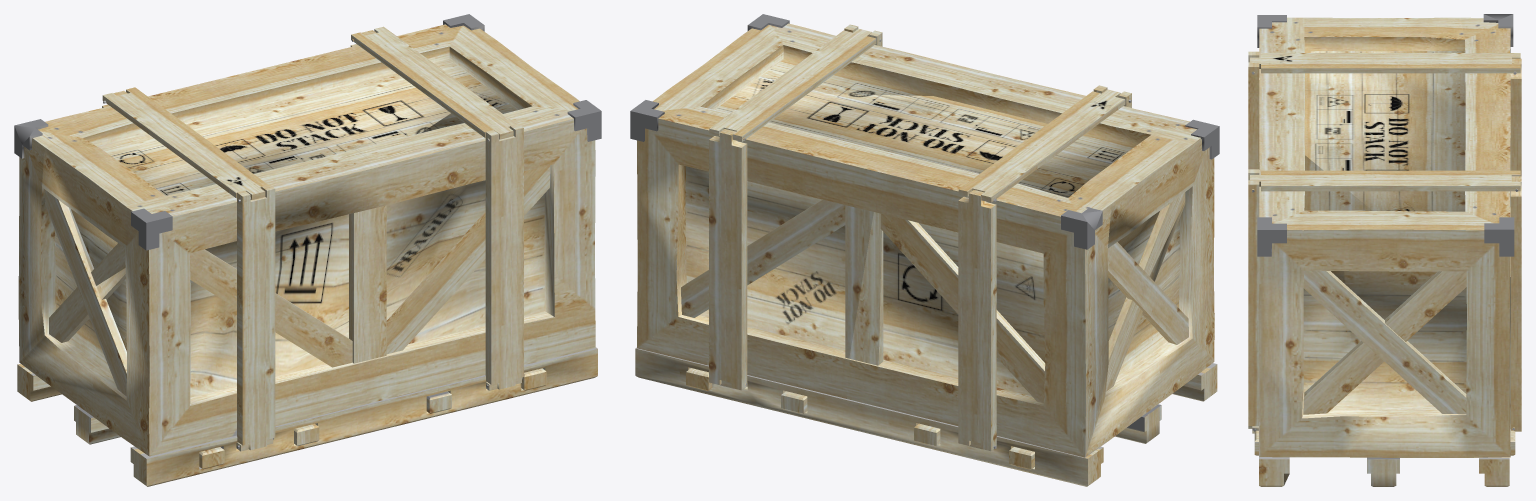
File: BigBox.fbx
3 views of the same model, side by side, from view 1: azimuth 30°, elevation 25°; view 2: azimuth 150°, elevation 25°; view 3: azimuth 270°, elevation 25° (orthographic). The views are drawn at different scales.
Visible parts, largest first — view 1: BigBox; view 2: BigBox; view 3: BigBox.
Boxes of the visible parts, x1,y1,x2,y2 form: BigBox: (14,14,601,486); BigBox: (630,14,1219,486); BigBox: (1248,14,1521,486).
Bounding box in the file's own units: 261 × 150 × 140.
Materials: 1 (1 with a texture image).
